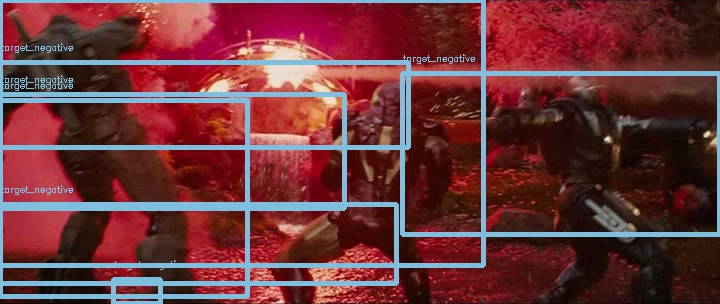person: (368, 80, 410, 117), (367, 80, 409, 117), (369, 80, 411, 117), (368, 79, 410, 116), (368, 81, 410, 118)
target_negative: (148, 118, 429, 258), (161, 173, 663, 203), (414, 128, 568, 201), (394, 127, 516, 200), (443, 29, 481, 65), (239, 72, 507, 76)
